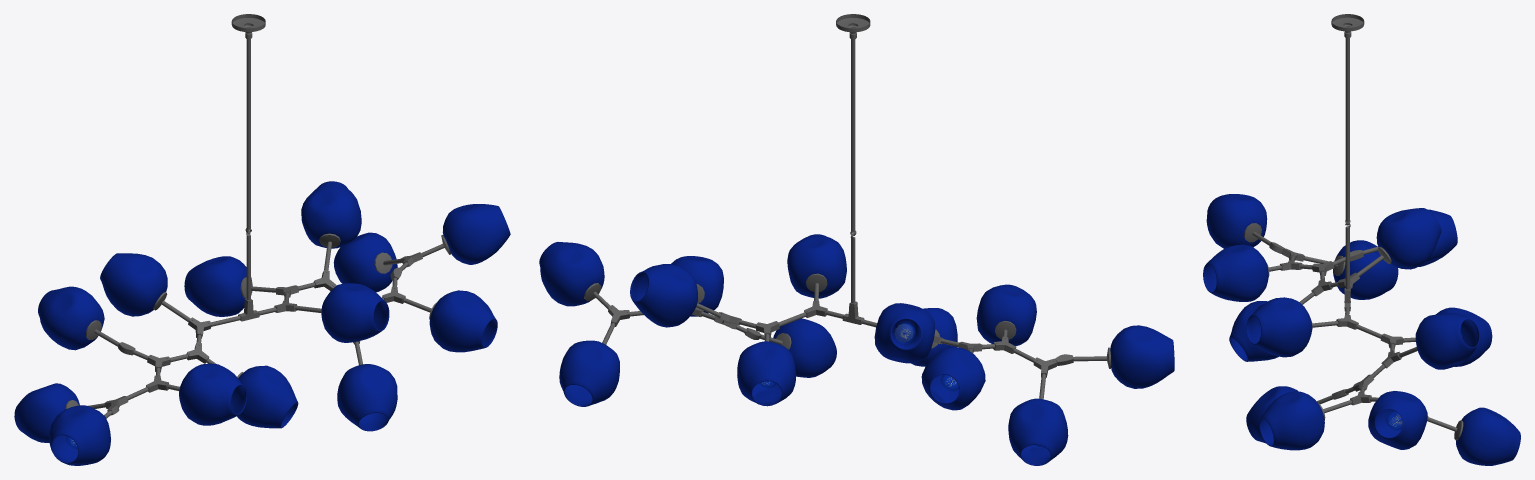
Rendered from chandelier_1.FBX.
The picture shows the model from 3 angles, left to right: view 1: azimuth 30°, elevation 25°; view 2: azimuth 150°, elevation 25°; view 3: azimuth 270°, elevation 25°; orthographic projection. The views are drawn at different scales.
Visible parts, largest first — view 1: glass, base, holder; view 2: glass, base; view 3: glass, base, holder.
Boxes of the visible parts, box(x1,y1,x2,y2) form: glass: box(14, 181, 510, 465); base: box(65, 38, 450, 418); holder: box(231, 14, 265, 38); glass: box(539, 234, 1174, 465); base: box(584, 38, 1111, 399); glass: box(1203, 194, 1520, 465); base: box(1244, 37, 1463, 440); holder: box(1331, 14, 1364, 37).
Bounding box in the file's own units: 207 × 145 × 109.
